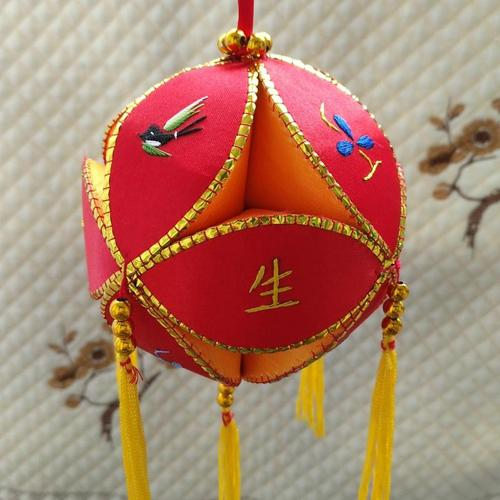xiuqiu: (80, 55, 409, 390)
